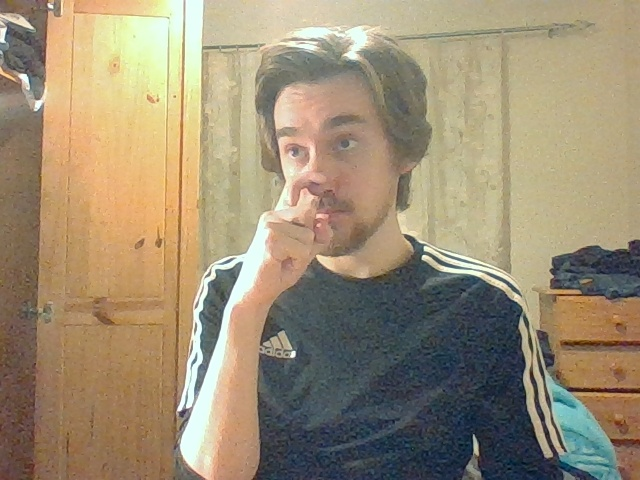sister: (256, 171, 334, 278)
